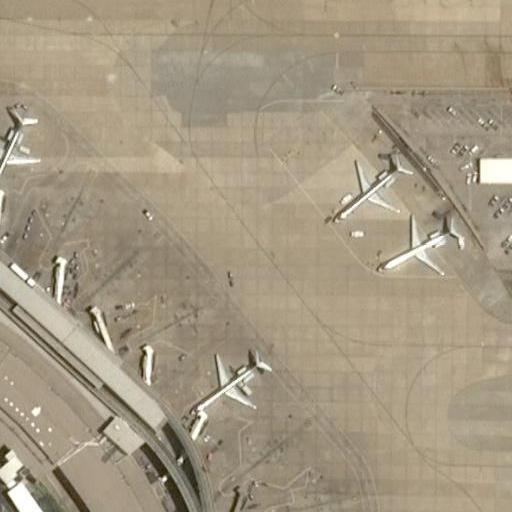Aircraft: (321, 136, 411, 229), (192, 335, 281, 422), (377, 202, 464, 280), (0, 98, 44, 195)
